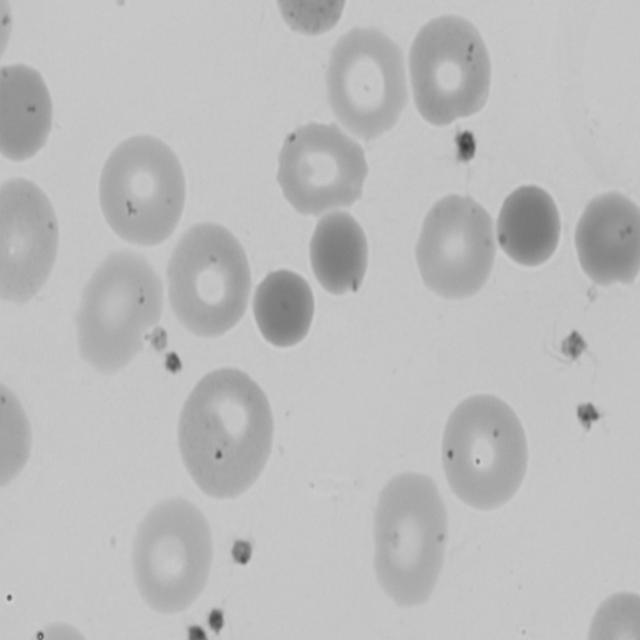Platelets: (558, 328, 588, 364), (574, 397, 600, 435)
RBC: (175, 355, 278, 498), (72, 244, 166, 378), (368, 466, 454, 612), (126, 496, 220, 622), (439, 393, 534, 516), (97, 133, 189, 252), (161, 222, 251, 342), (320, 22, 410, 141), (406, 16, 497, 129), (277, 116, 368, 221), (415, 192, 498, 306), (0, 174, 64, 309), (573, 183, 640, 292), (0, 62, 60, 165), (0, 368, 34, 500), (267, 0, 358, 38)
Spherocyte: (252, 264, 326, 352), (497, 188, 567, 270), (310, 210, 370, 298)
